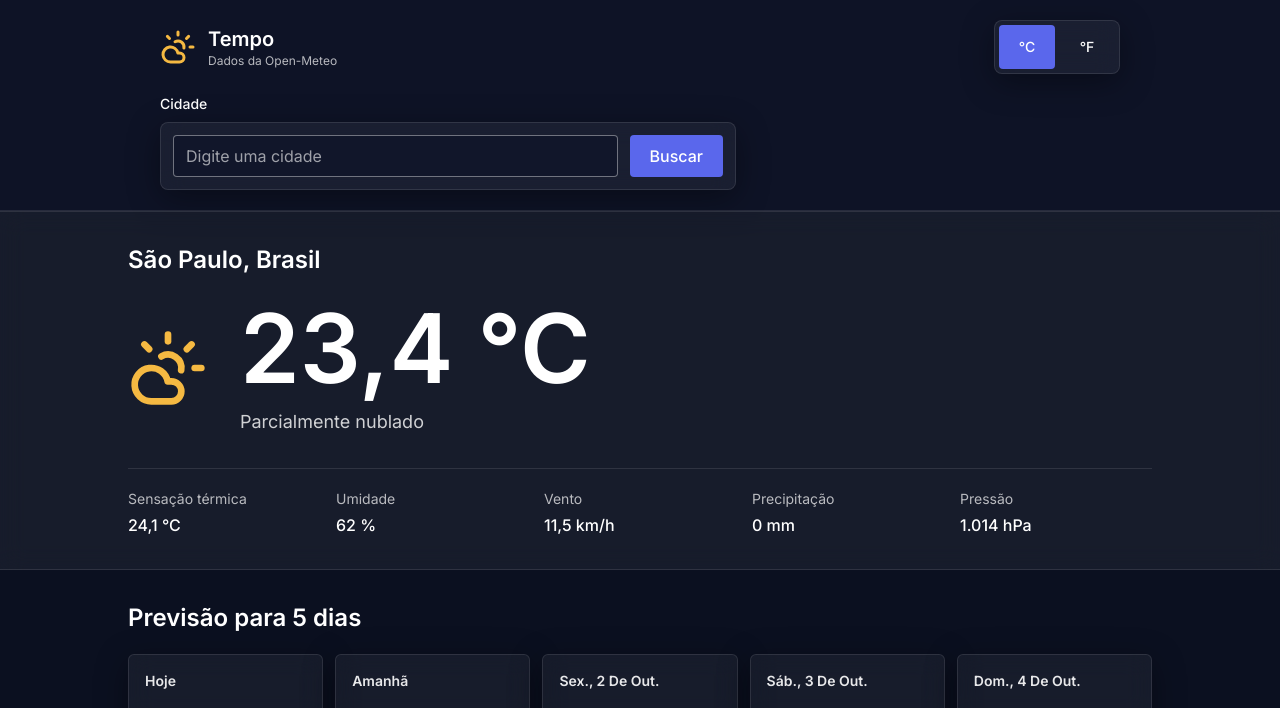
Test: App › renderiza success e mantém a unidade como estado de UI
Expected: the text "23,4 °C" is shown, top-left (240, 300), bottom-right (591, 396)
What coordinates should you click on to do the following:
click the button named "Fahrenheit"
I would click on:
 (1087, 47)
Its box is top-left (1059, 25), bottom-right (1115, 69).
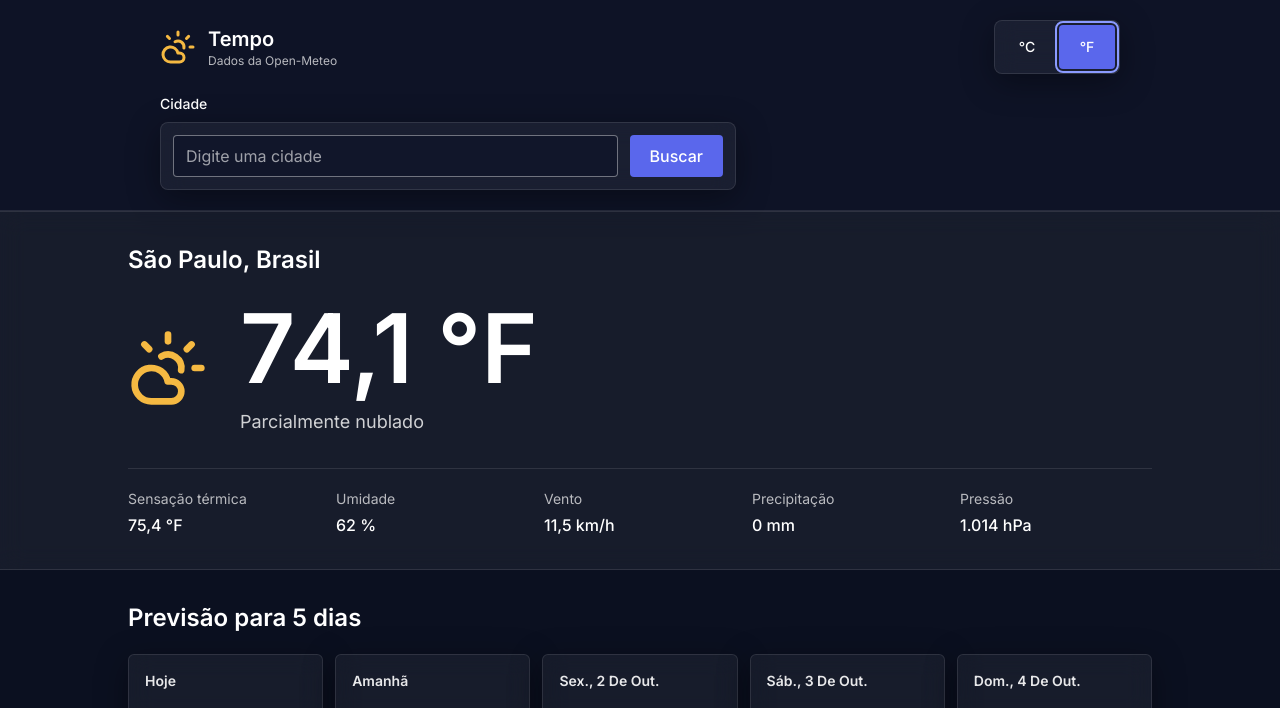
Result: the text "74,1 °F" is shown at top-left (240, 300), bottom-right (538, 396)
